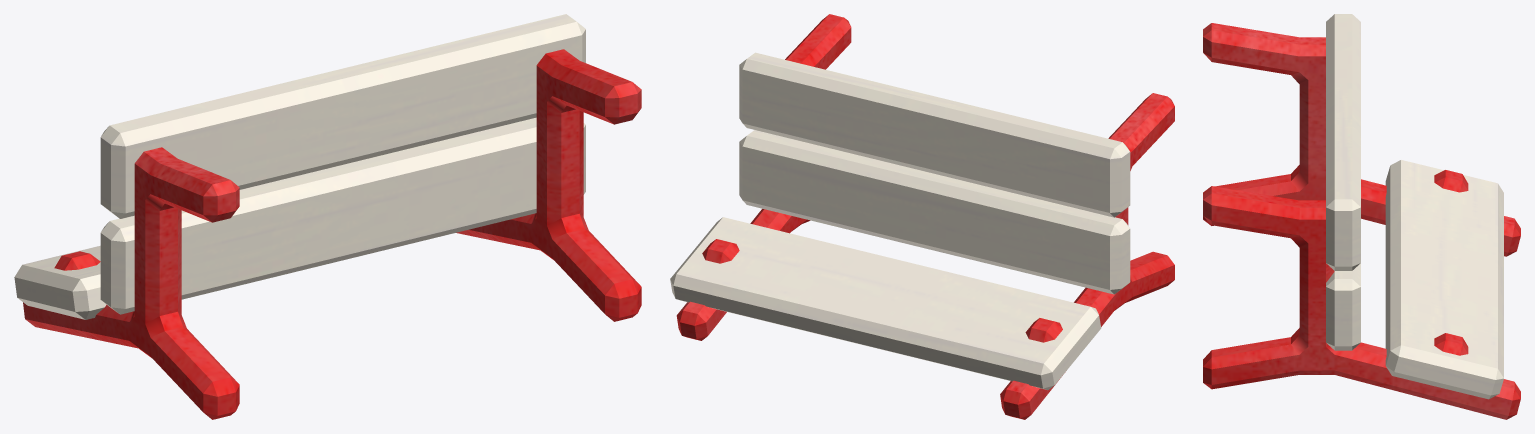
The model's file is Bench.FBX.
The picture shows the model from 3 angles, left to right: view 1: azimuth 30°, elevation 25°; view 2: azimuth 150°, elevation 25°; view 3: azimuth 270°, elevation 25°; orthographic projection. The views are drawn at different scales.
Visible parts, largest first — view 1: pCube377_1__PaintWood00_J, pCube381_1__Metal01; view 2: pCube377_1__PaintWood00_J, pCube381_1__Metal01; view 3: pCube377_1__PaintWood00_J, pCube381_1__Metal01.
Part boxes in pixels (x1,y1,x2,y2): pCube377_1__PaintWood00_J: (14,14,585,319); pCube381_1__Metal01: (23,49,641,419); pCube377_1__PaintWood00_J: (670,52,1130,389); pCube381_1__Metal01: (676,14,1174,419); pCube377_1__PaintWood00_J: (1326,14,1503,399); pCube381_1__Metal01: (1203,23,1520,419).
Bounding box in the file's own units: 260 × 143 × 181.
